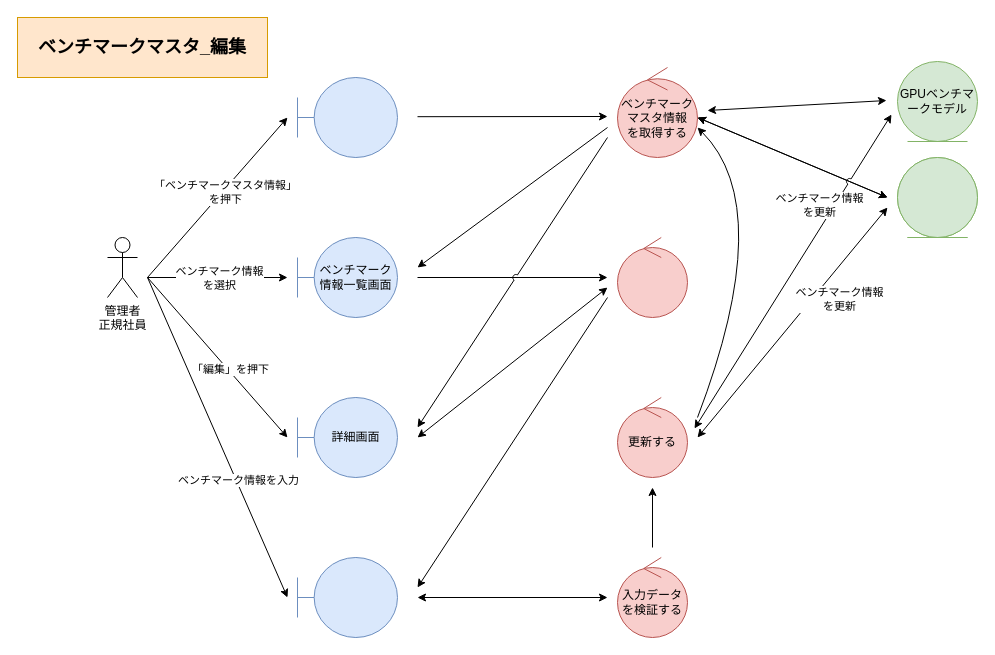
Some shapes in this 995 by 655 pixel diagram are drawn without their labels. The shapes that lost their labels are listed below. From the top down, each one's centre as x and y in pixels, then its label:
At (347,117): "ログイン済 ホーム画面".
At (937,197): "CPUベンチマークモデル".
At (652,277): "表示する".
At (347,597): "編集画面".
